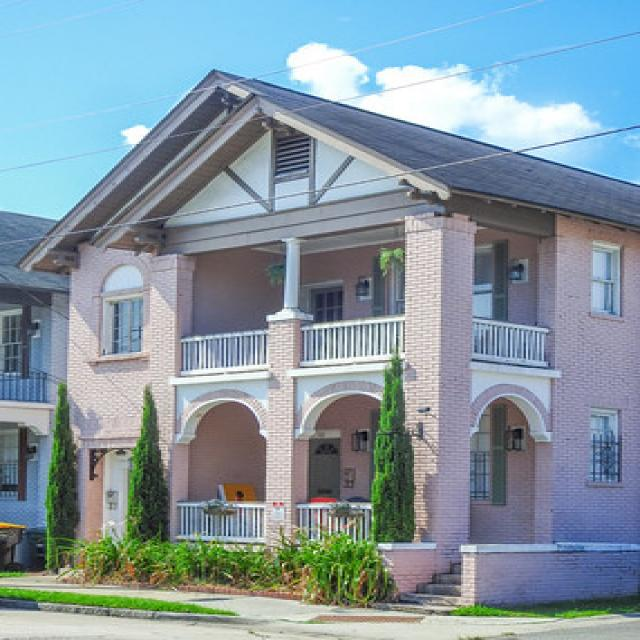Normal_building: (15, 65, 640, 609)
